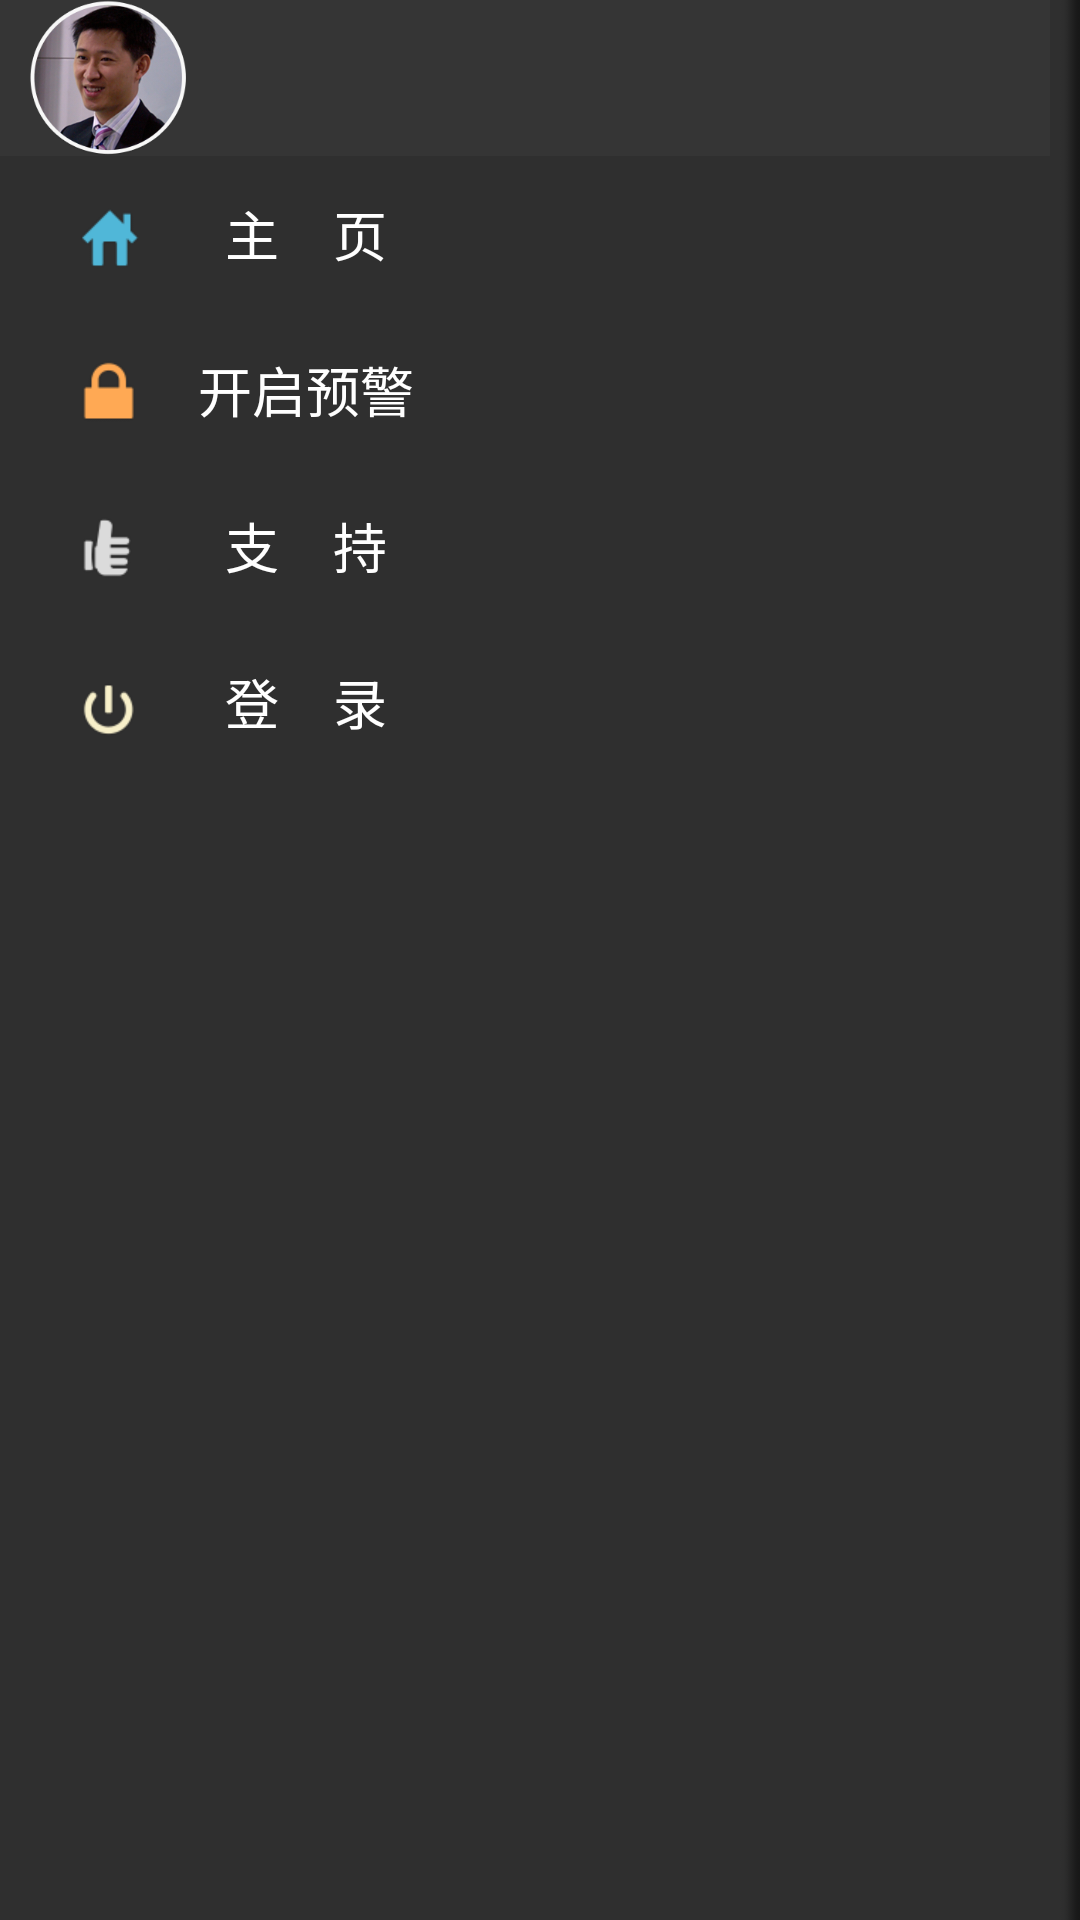

Screen size 1080px x 1920px. Icon name, then its box in pixels as [x1,y1,x2,y2]:
head: [30,1,186,154]
home: [82,210,138,266]
support: [84,519,130,576]
